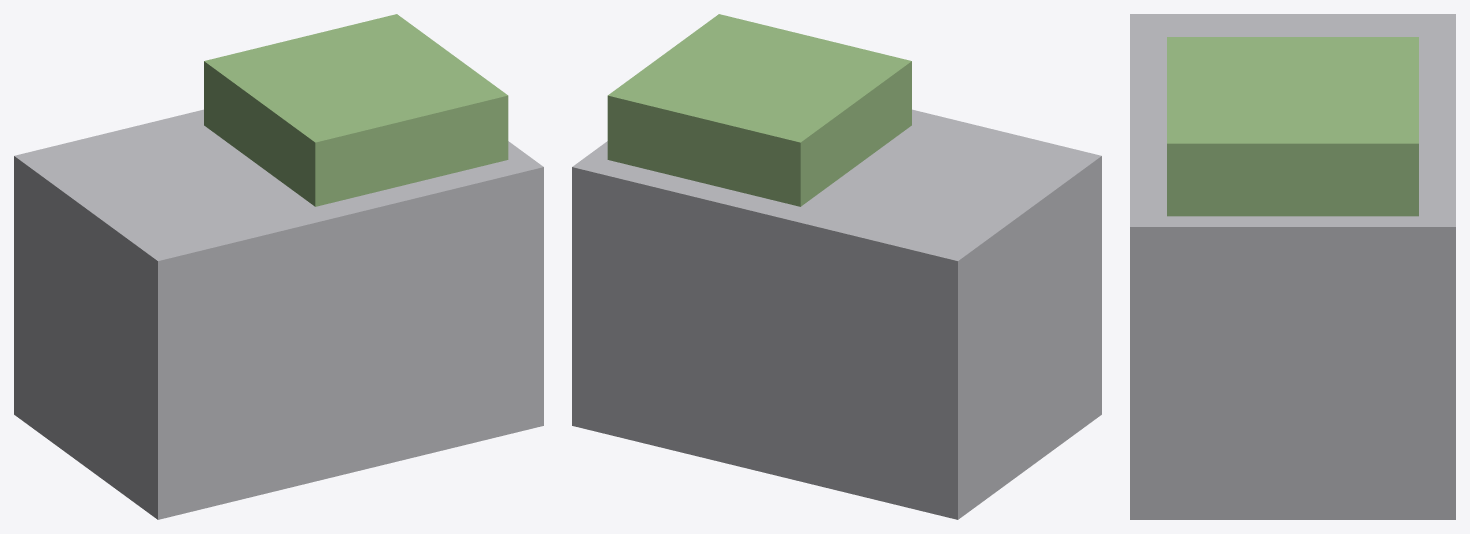
Rendered from Prop_Dress_AMF_Rock_V16.glb.
The picture shows the model from 3 angles, left to right: view 1: azimuth 30°, elevation 25°; view 2: azimuth 150°, elevation 25°; view 3: azimuth 270°, elevation 25°; orthographic projection. The views are drawn at different scales.
Parts seen in each view (by area): view 1: Prop_Dress_AMF_Rock_V16; view 2: Prop_Dress_AMF_Rock_V16; view 3: Prop_Dress_AMF_Rock_V16.
Part boxes in pixels (x1,y1,x2,y2): Prop_Dress_AMF_Rock_V16: (14,14,543,519); Prop_Dress_AMF_Rock_V16: (572,14,1101,519); Prop_Dress_AMF_Rock_V16: (1130,14,1455,519).
Size of the model in its own units: 1.65 by 1.32 by 1.07.
